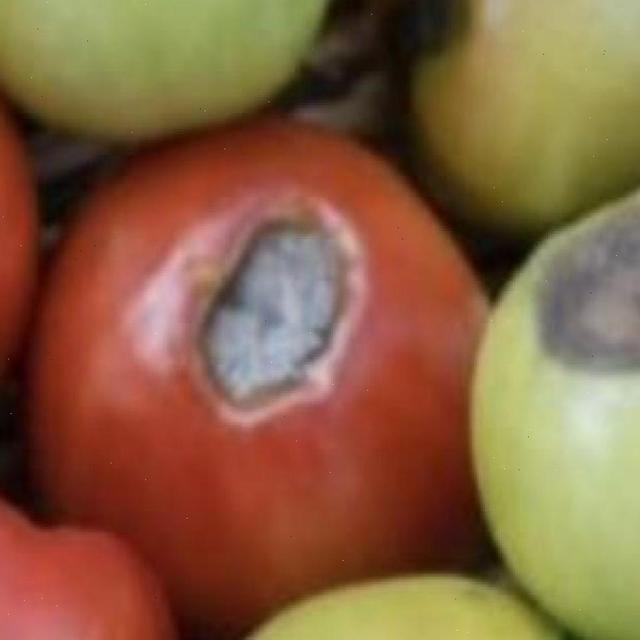Blossom End Rot Fruit: (73, 116, 390, 204)
